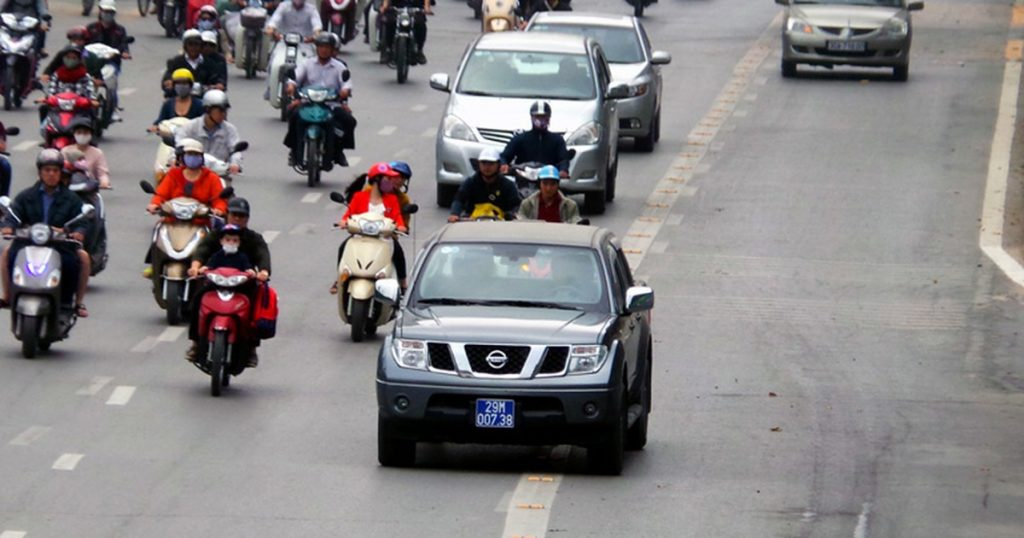plate: (473, 395, 518, 430), (826, 38, 869, 54)
